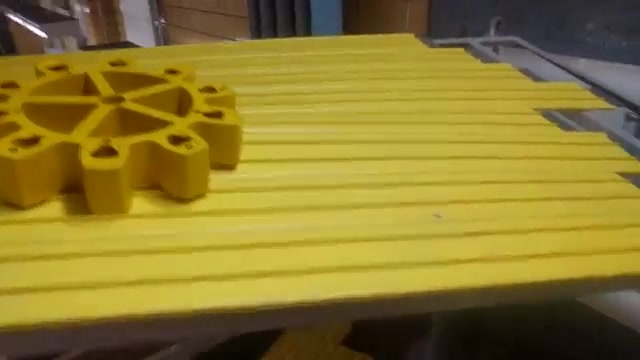gear: (1, 56, 255, 225), (1, 56, 252, 226)
